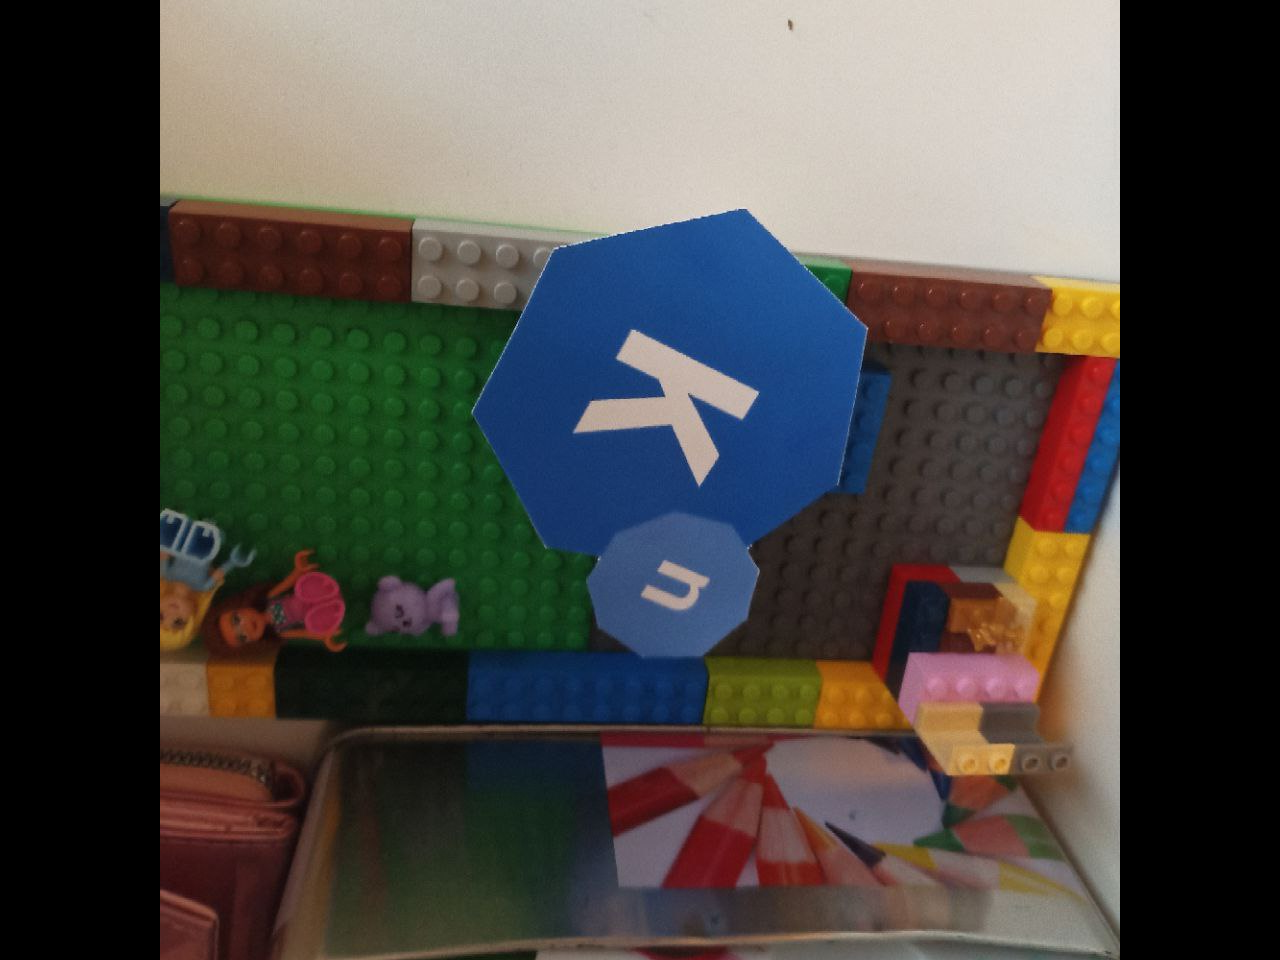knative: (470, 205, 870, 659)
